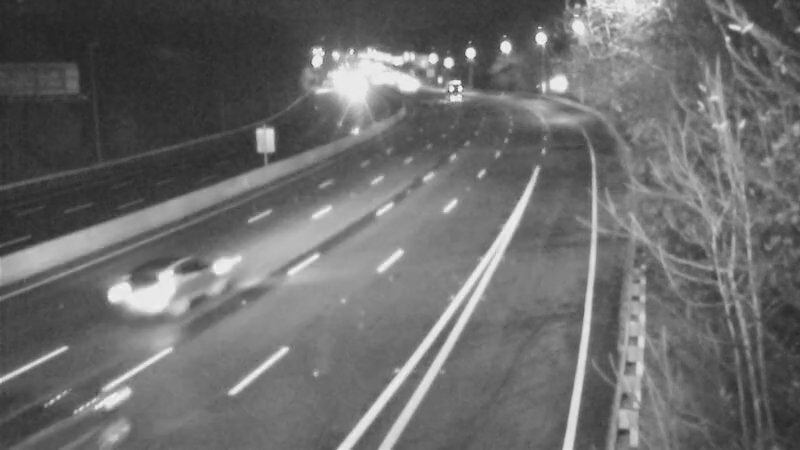vehicle: (113, 246, 223, 356), (1, 354, 109, 450), (430, 73, 480, 123)
